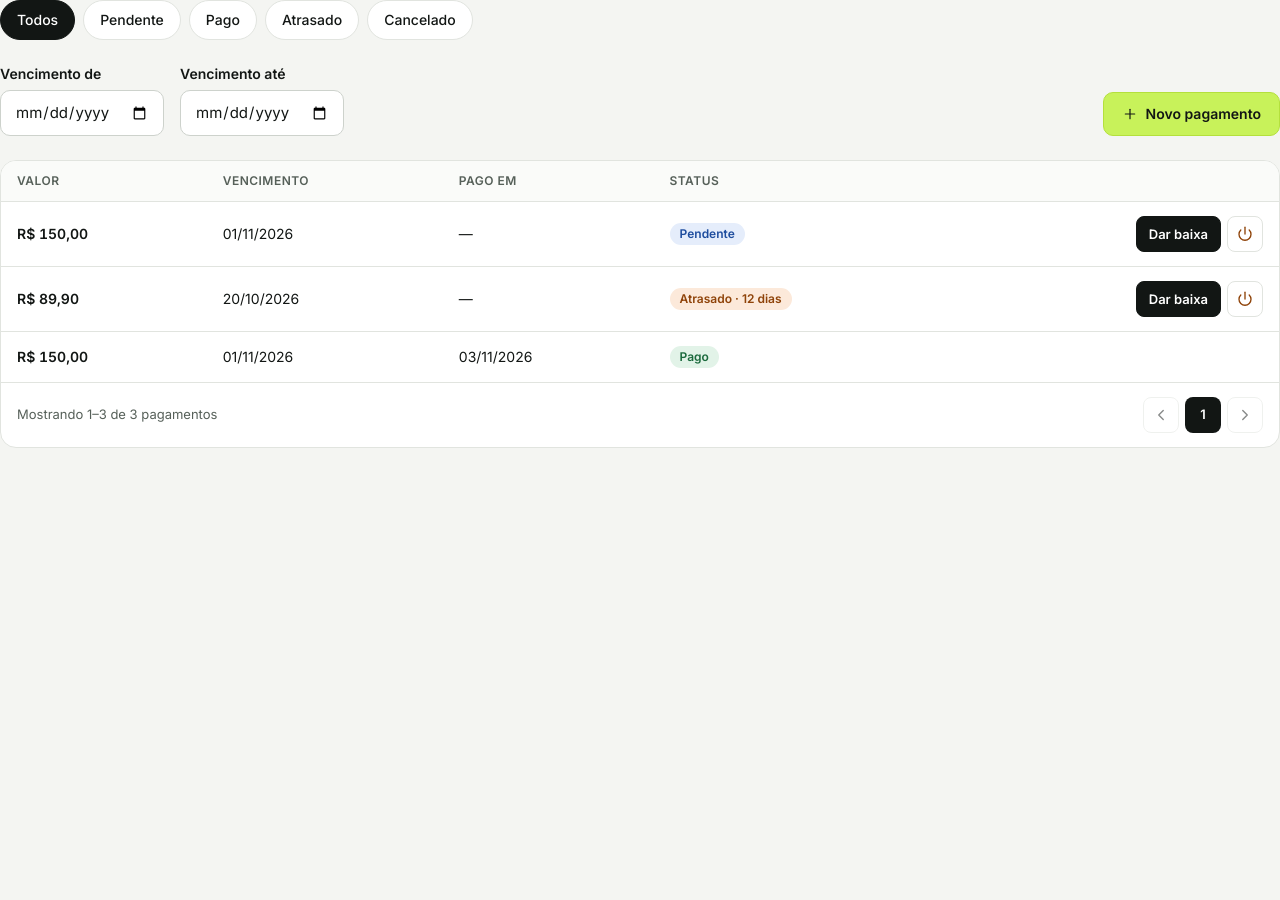
Scenario: PagamentosDoMembro › abre Novo pagamento sem a busca de membro e lança com o membro fixo
Expected: the text "Atrasado · 12 dias" is shown, [670, 288, 792, 310]
Click the button "Novo pagamento" at (1191, 114), box [1103, 92, 1279, 136]
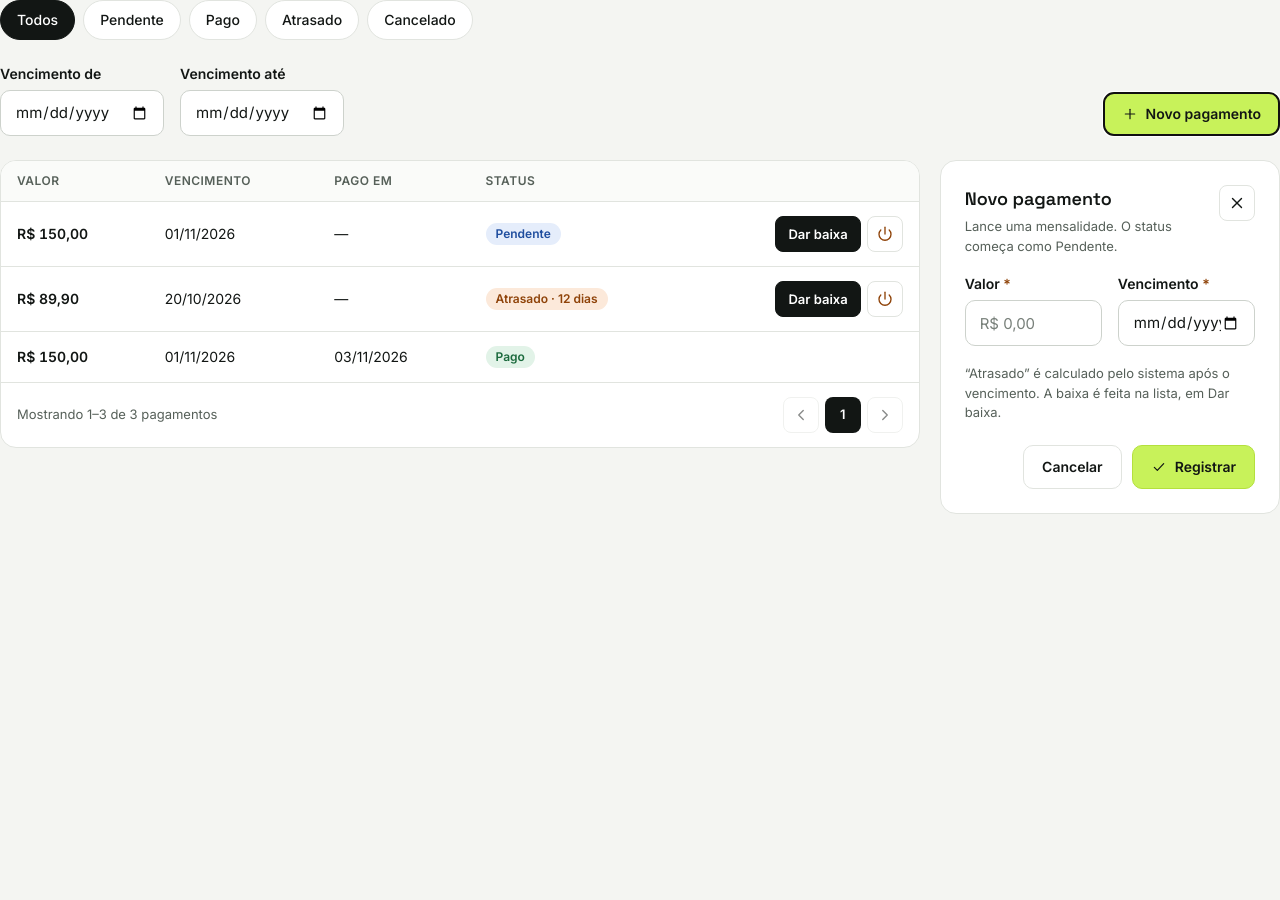
Type "8990" into the field labelled "Valor" at (1033, 323), box [965, 300, 1102, 346]
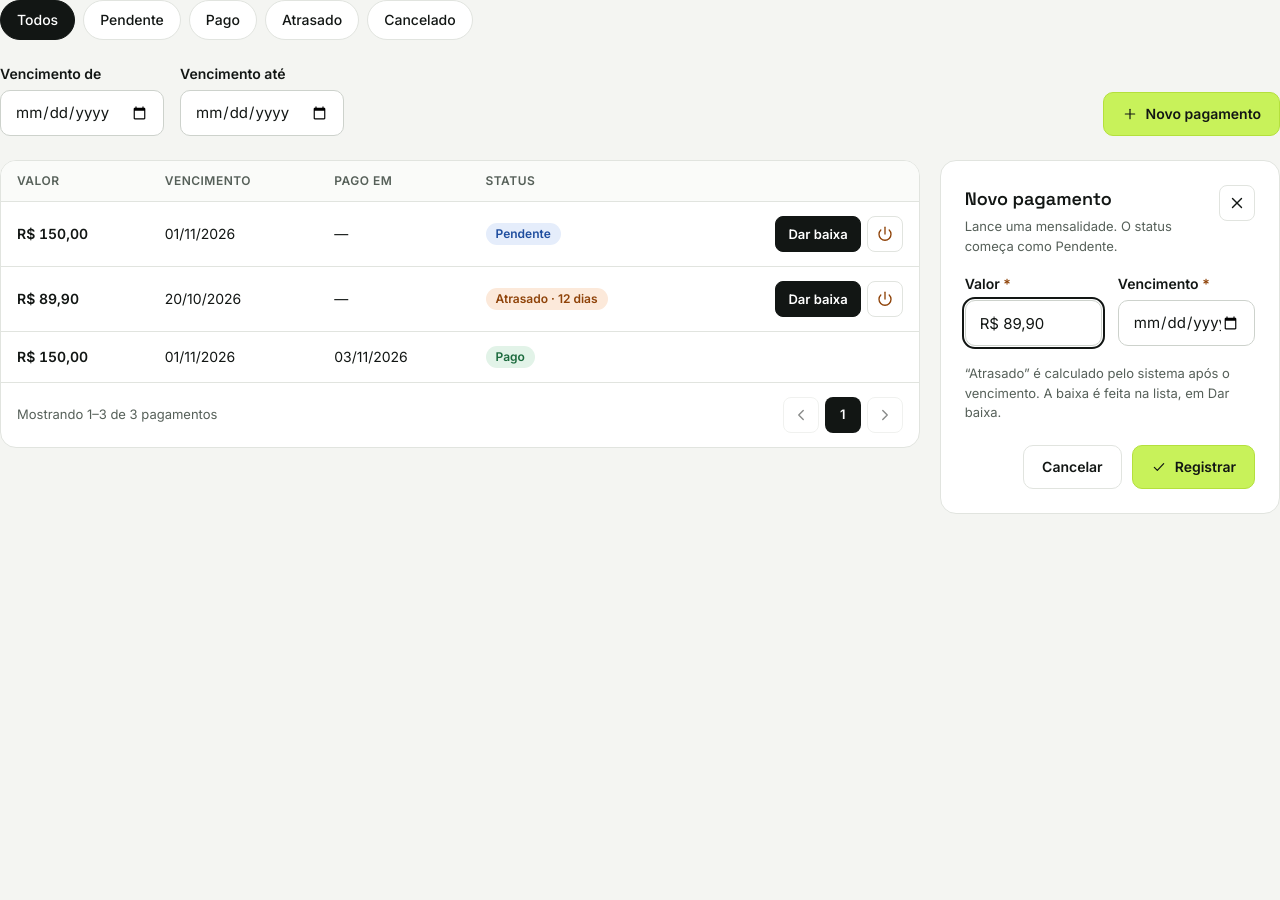
Type "2026-11-20" into the date field labelled "Vencimento" at (1186, 323), box [1118, 300, 1255, 346]
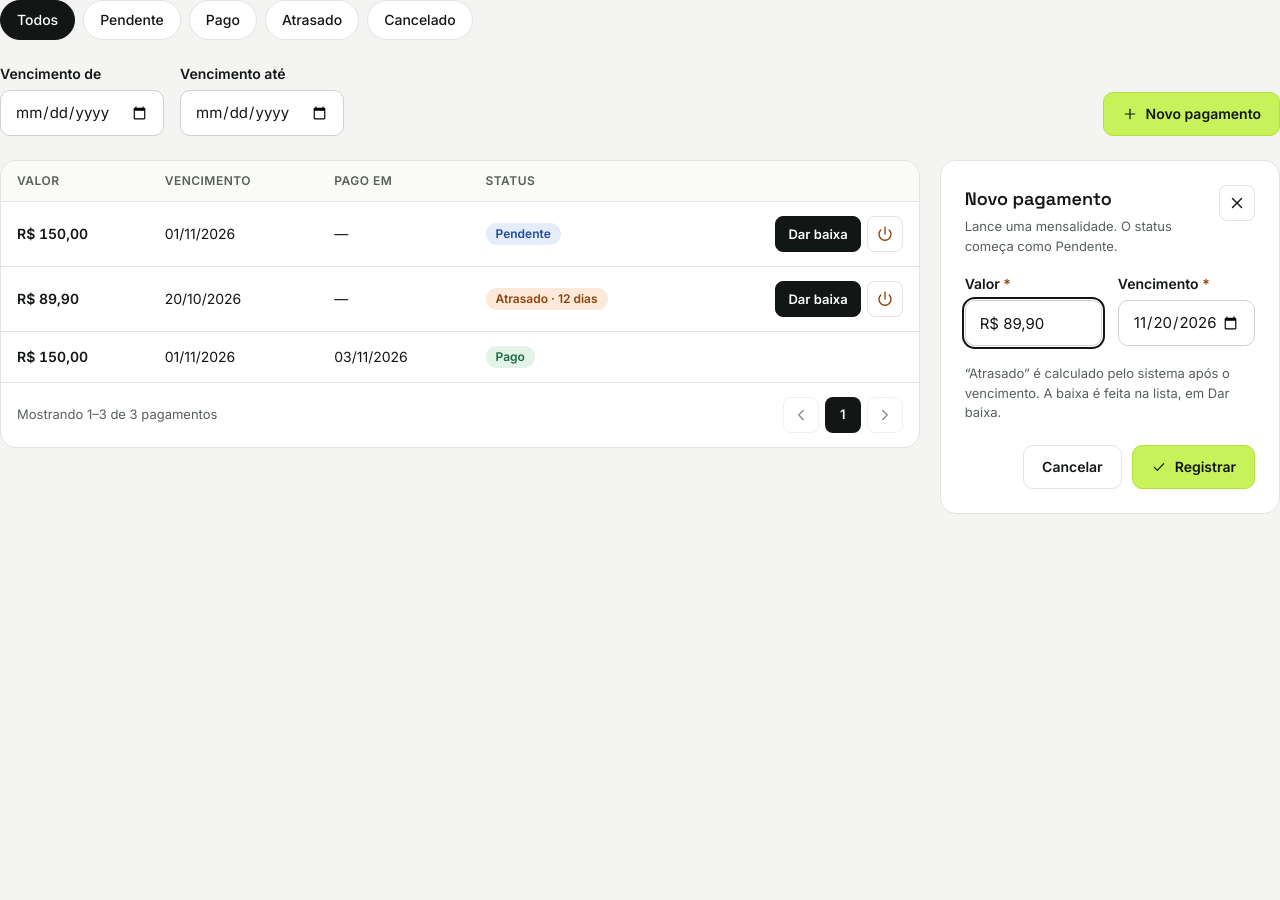
Click the button "Registrar" at (1193, 466), box [1132, 444, 1255, 488]
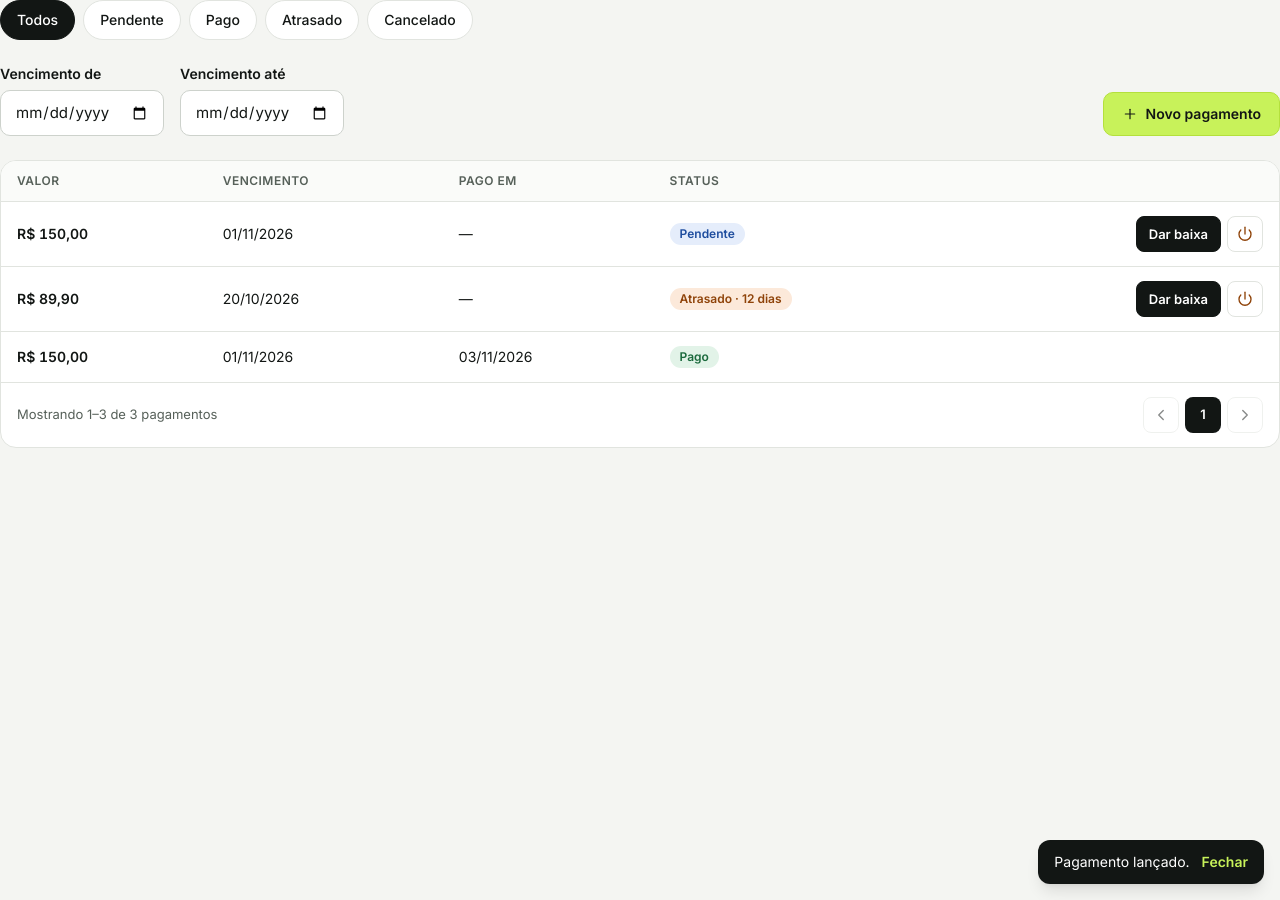
Expected: the text "Pagamento lançado." is shown, [1054, 852, 1190, 872]
Expected: the dialog is gone
